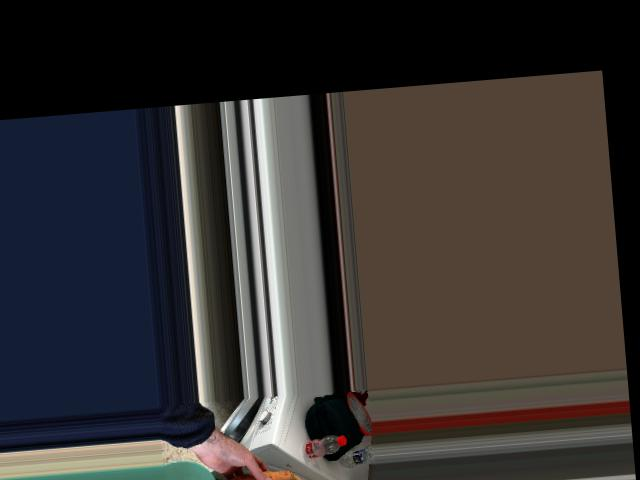sweet_potato: (201, 463, 298, 480)
